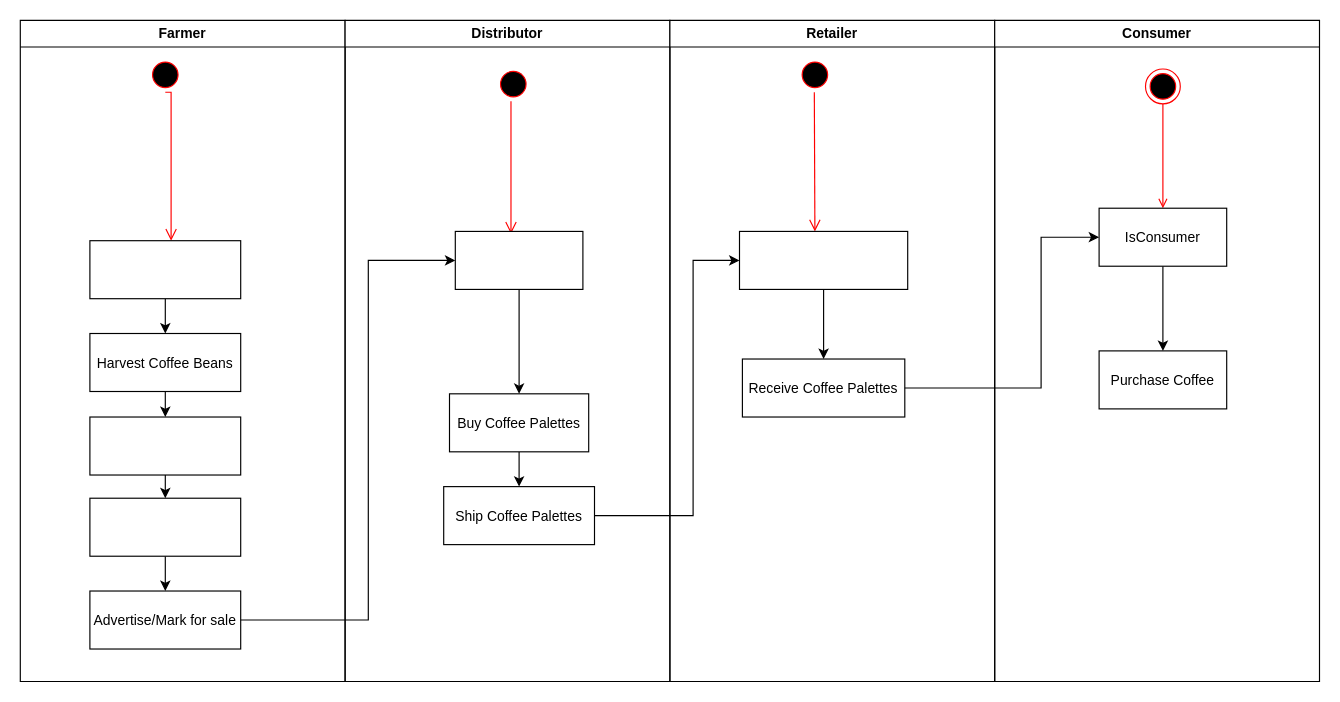
This 1340x702 diagram has some shape labels left out. The box of each missing label's shape, as (x1, y1, x2, y2) in pixels:
IsDistributor: (454, 230, 583, 289)
IsFarmer: (89, 240, 241, 299)
IsRetailer: (738, 230, 908, 289)
Pack Coffee Palettes: (89, 497, 241, 556)
Process Coffee Beans: (89, 416, 241, 475)
